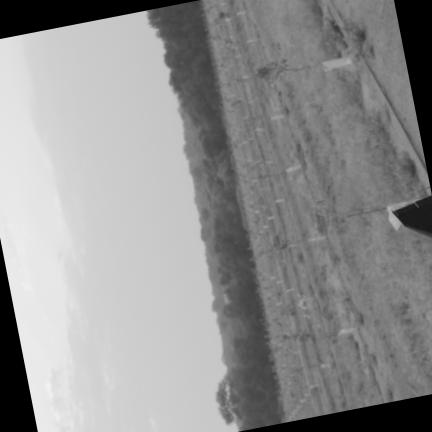Shahed: (389, 195, 432, 238)
